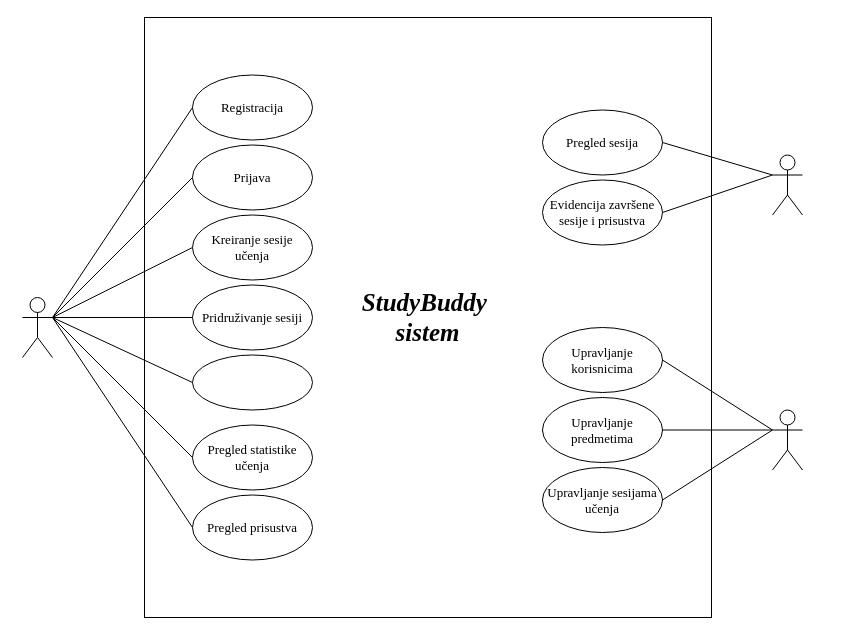
Image size: 841x635. Some labels were removed from this diagram. Here are the shapes that lost their labels. From the top down, the centre of each, then its label:
At point (787, 184): "Moderator".
At point (37, 327): "Student".
At point (252, 382): "Pretraga i filtriranje sesija".
At point (787, 439): "Administrator".
